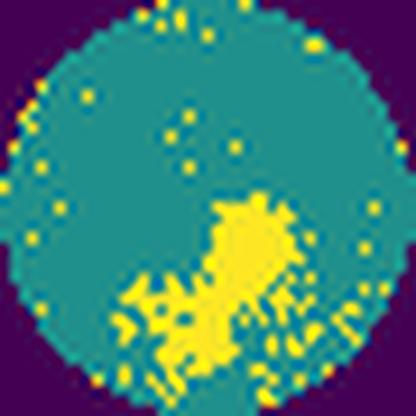Loc: (118, 191, 310, 406)
